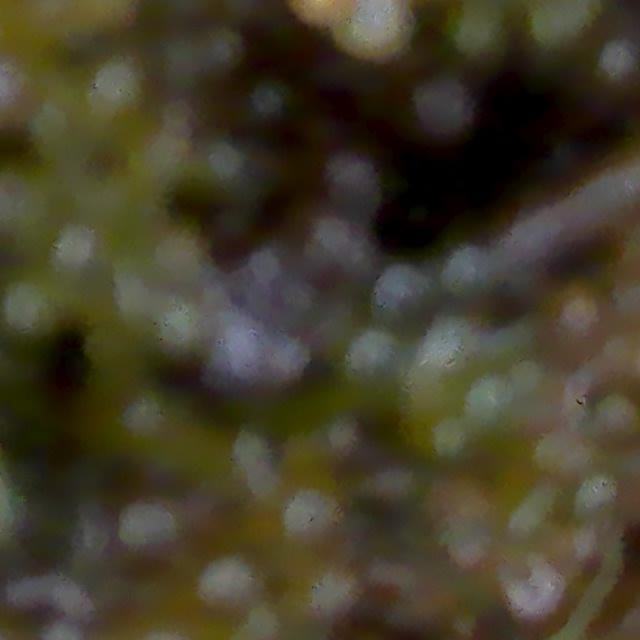SeaGrape: (262, 484, 339, 560), (0, 266, 71, 344), (119, 500, 187, 579), (549, 285, 614, 361), (306, 214, 374, 280), (410, 76, 476, 143), (192, 554, 266, 613), (326, 147, 391, 211), (301, 558, 366, 622), (583, 44, 640, 110), (376, 262, 428, 314)
